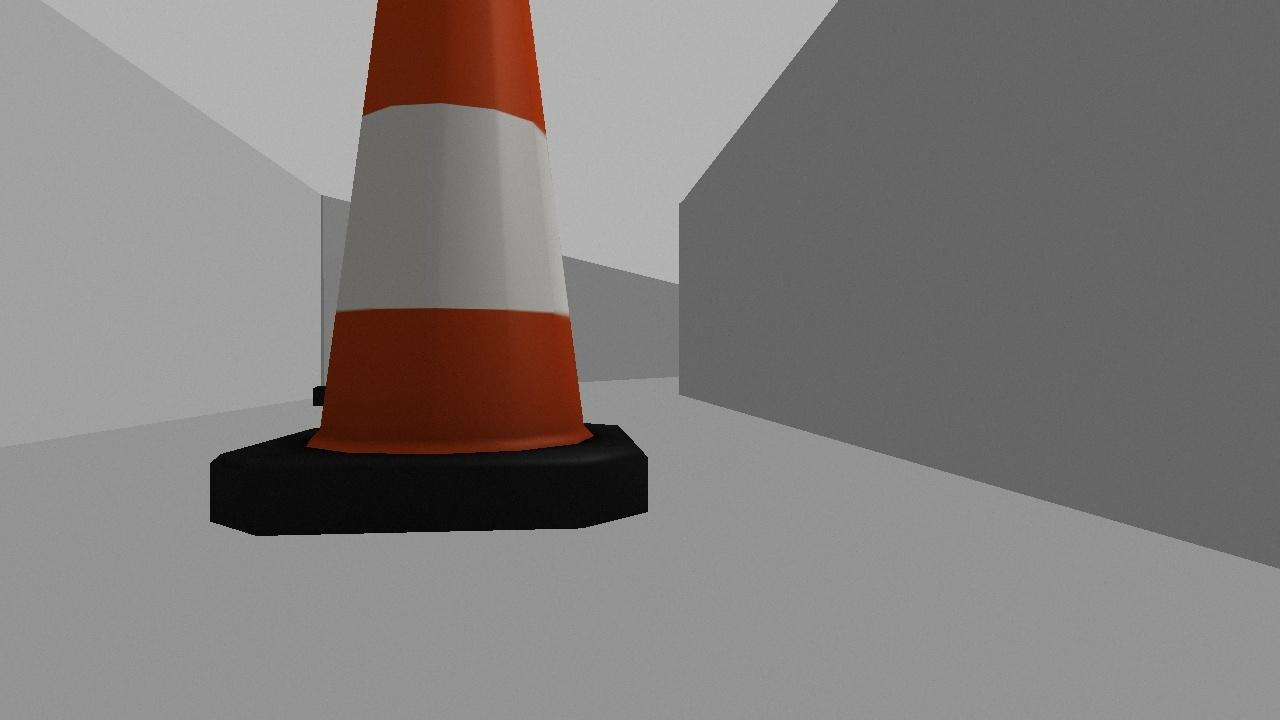cone_barrel: (190, 0, 659, 548)
